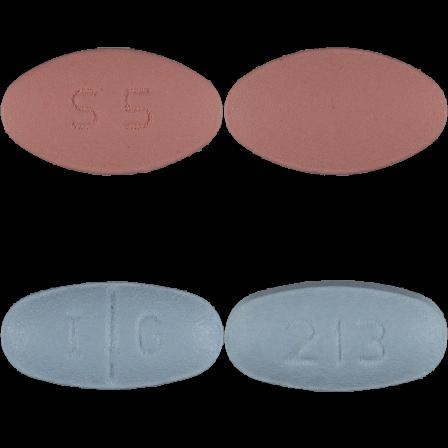68788-9869: (0, 0, 224, 224)
